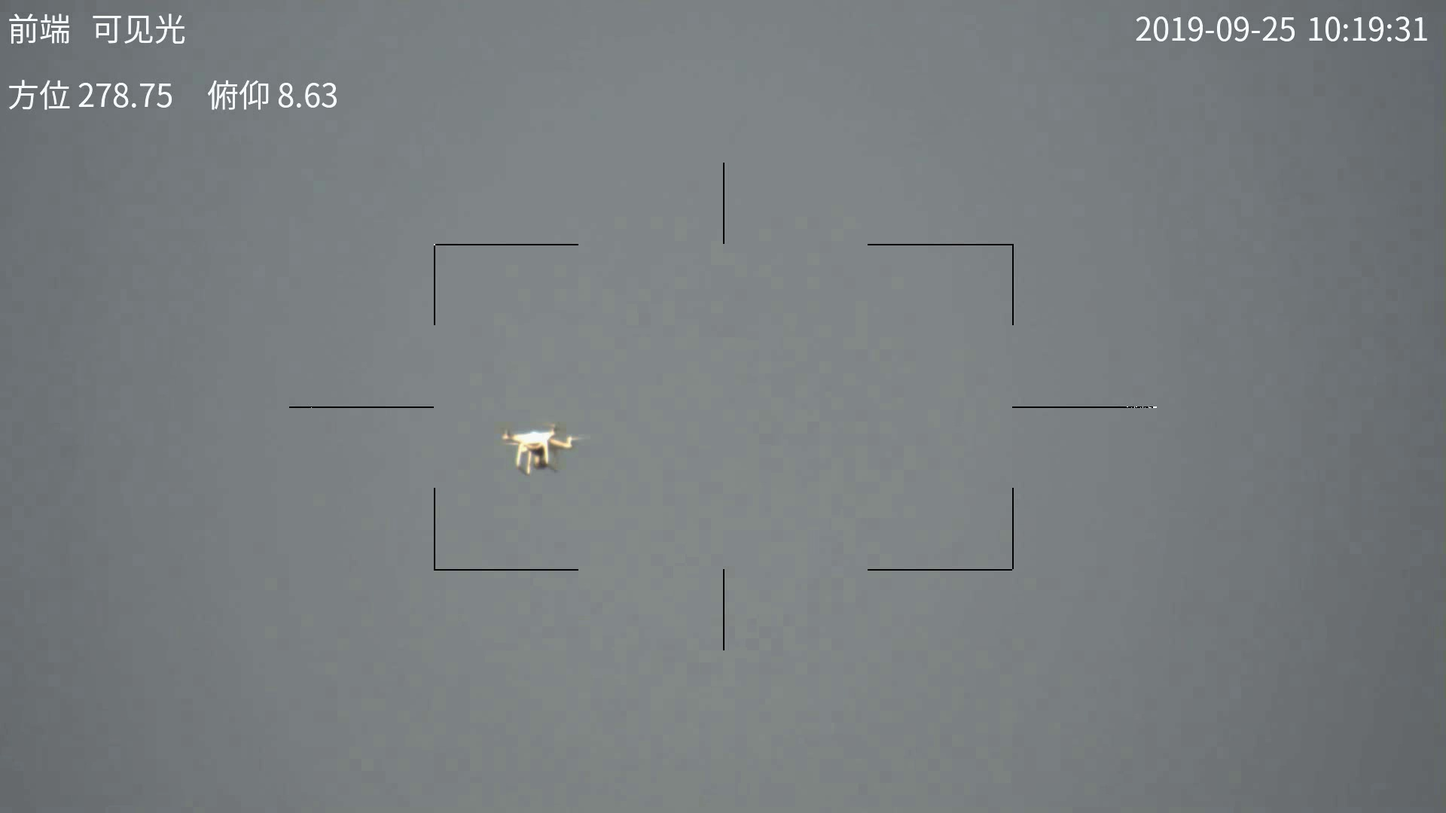drone_other: (492, 422, 584, 477)
